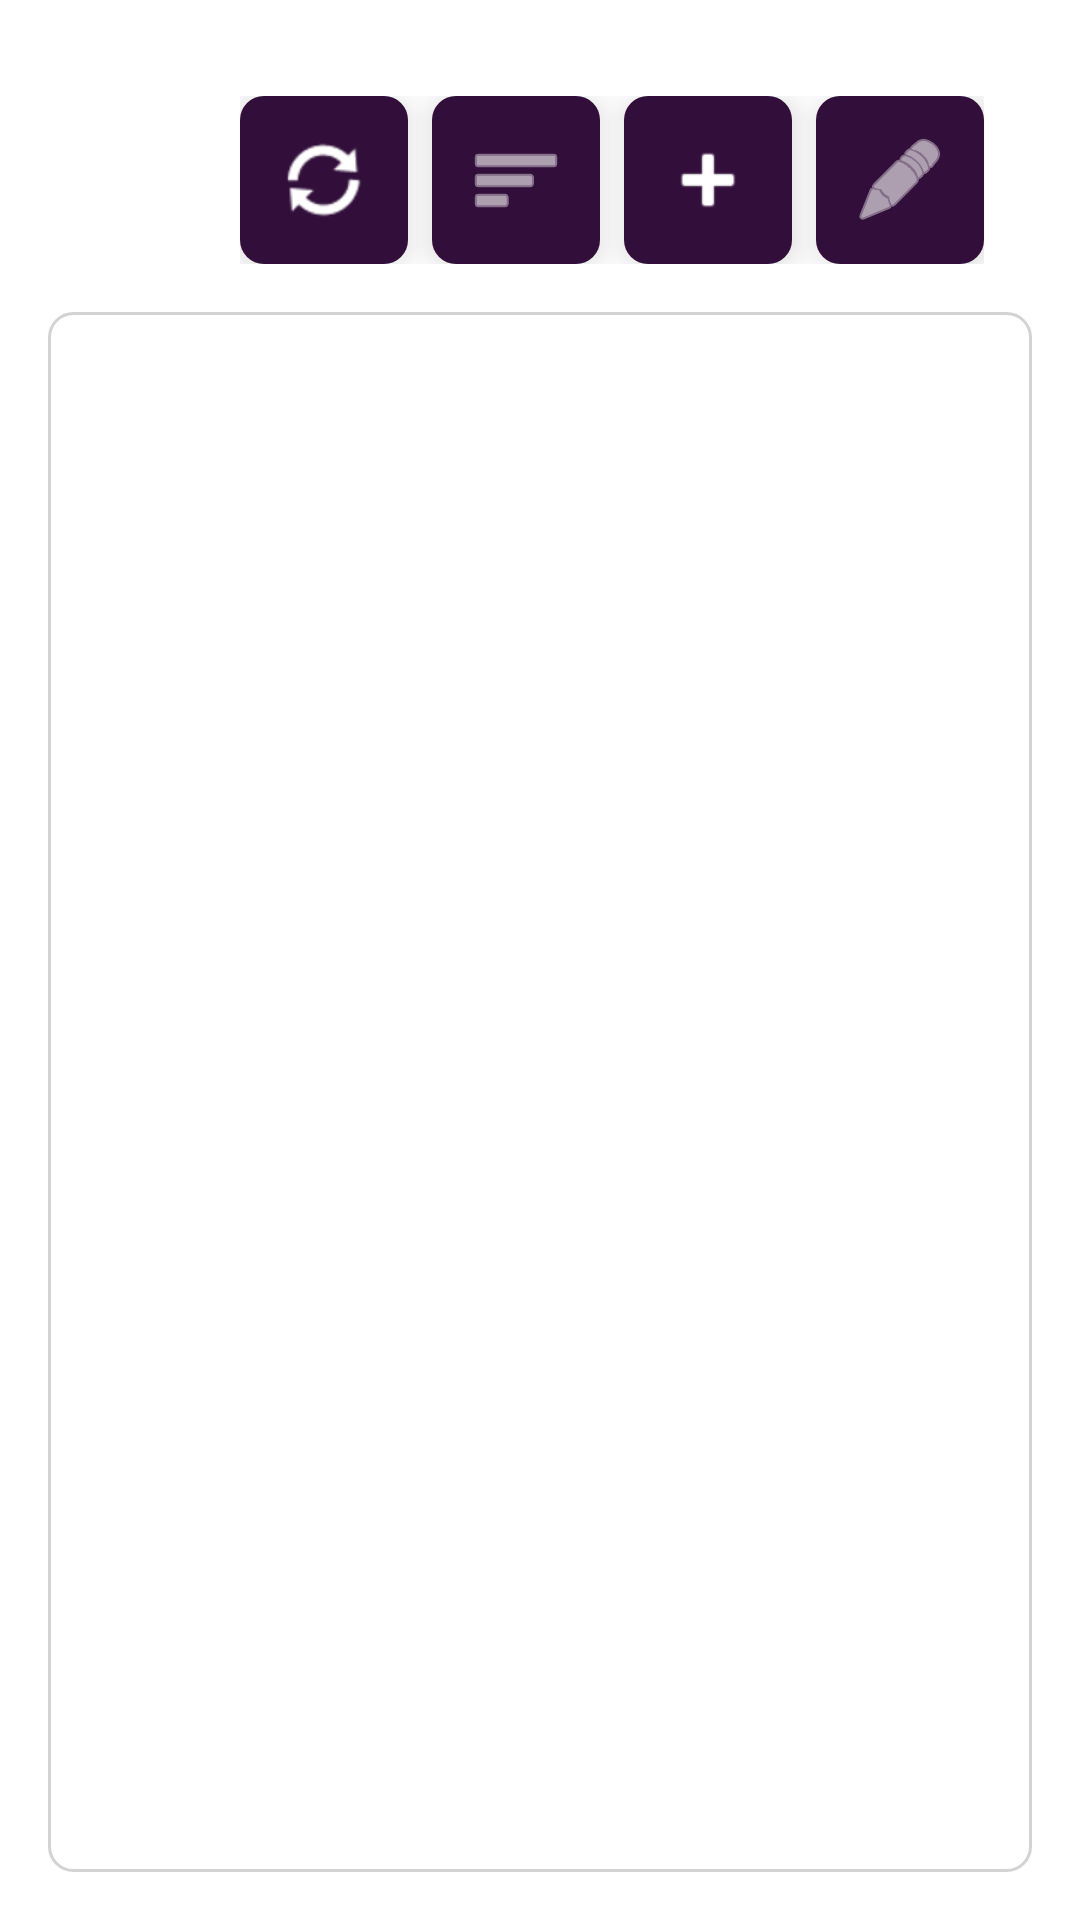

Point at icon controls on the screen. Image size 1080 × 1920, points as (x=x, y=y).
Agregar Requisición: (x=708, y=180)
Editar Requisición: (x=900, y=180)
Filtrar: (x=516, y=180)
Reload Requisiciones: (x=324, y=180)
